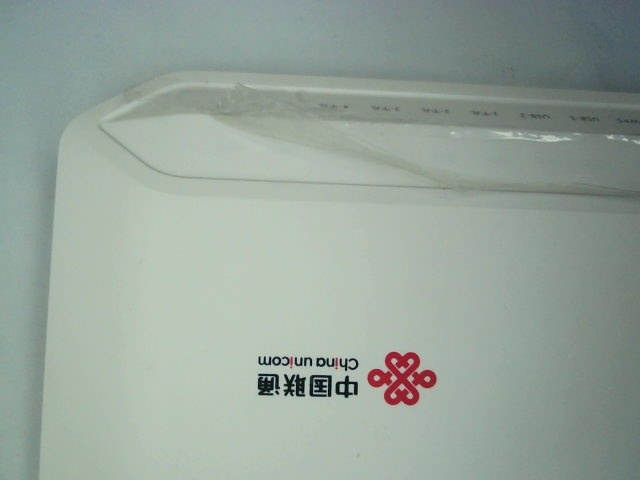AD_ChinaUnicom: (240, 340, 445, 420)
